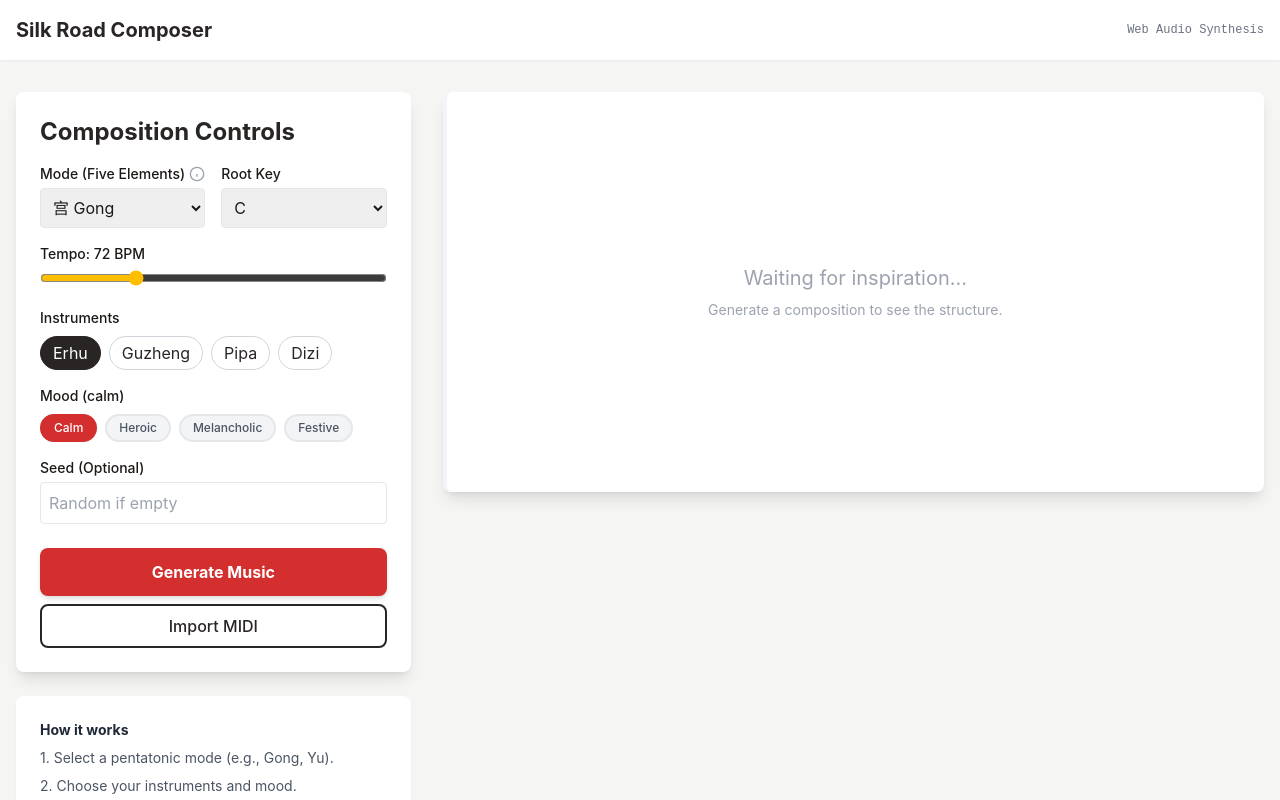
Test case: App › Compose → Generate Flow › updates composition state after successful compose
Click the button "Generate Music" at (213, 572), box [40, 548, 387, 596]
(page scrolled)
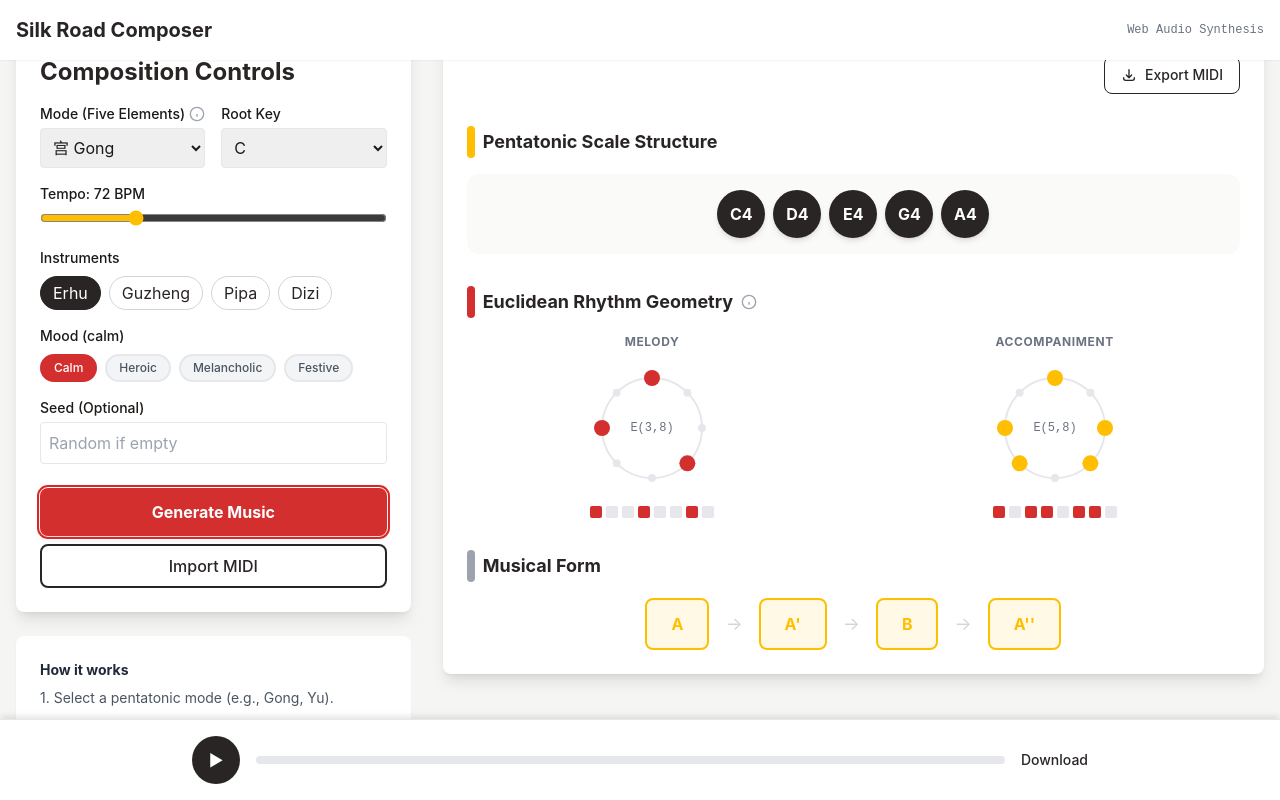
Expected: the heading "Pentatonic Scale Structure" is shown, [467, 126, 718, 158]
